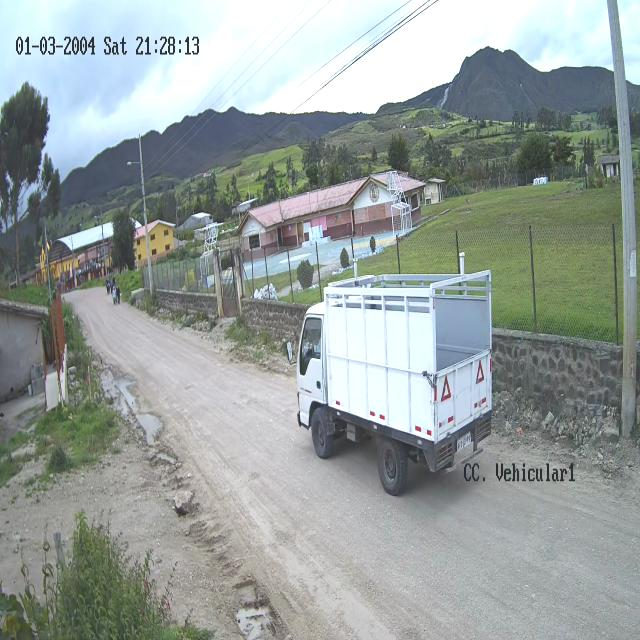TRUCK: (294, 272, 494, 495)
